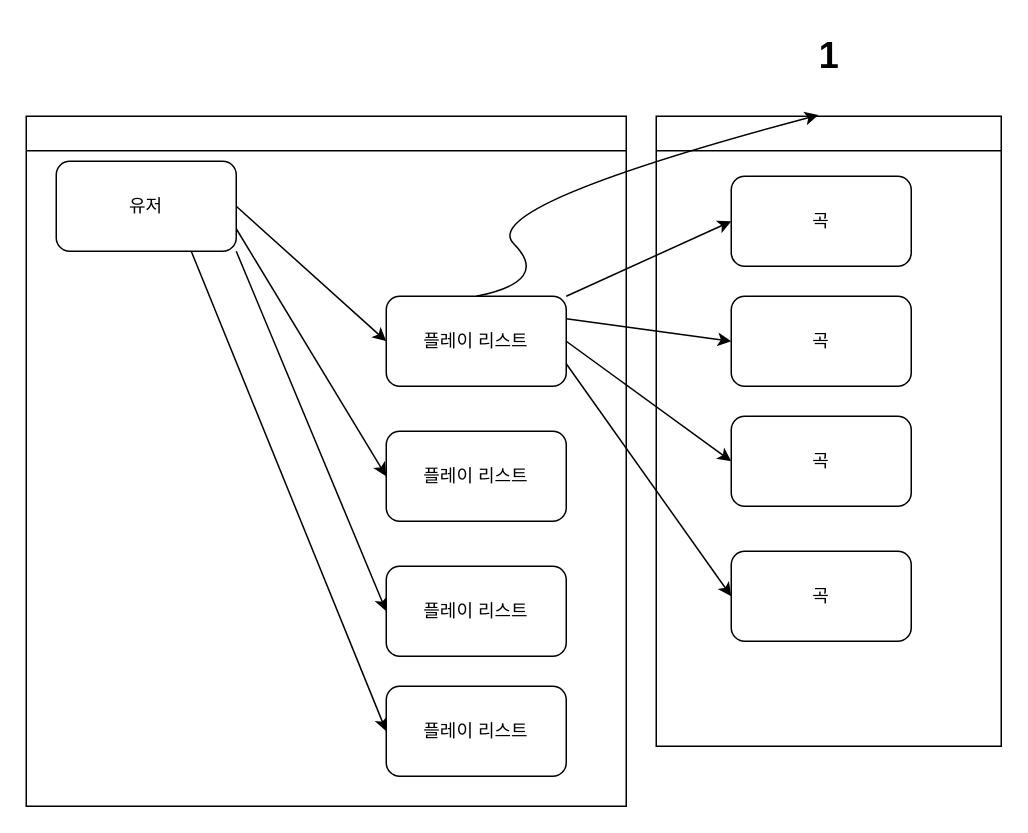
The diagram is 1028 pixels wide and 833 high, and some of its shapes have lost their labels. The shapes that lost their labels are listed below. From the top down, each one's box as (x1, y1, x2, y2) in pixels, then its label:
(655, 115, 1001, 746): 플레이리스트
(25, 115, 626, 806): 메인화면
